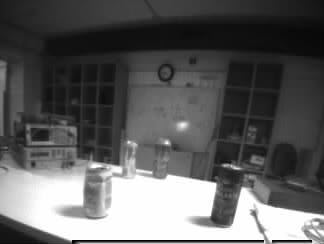Tin can: (210, 166, 244, 224), (83, 163, 112, 218), (120, 140, 137, 177), (153, 138, 169, 177)
